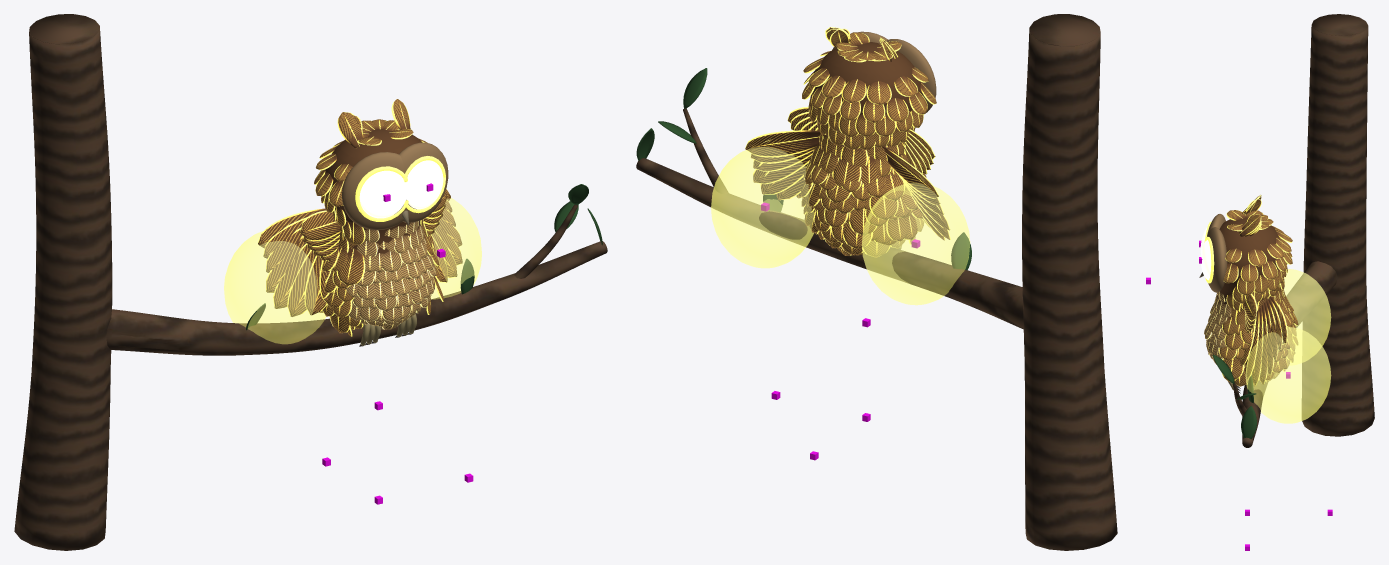
File: 03_gufo_scintilla.glb
3 renders of one model, left to right at view 1: azimuth 30°, elevation 25°; view 2: azimuth 150°, elevation 25°; view 3: azimuth 270°, elevation 25°, orthographic. The views are drawn at different scales.
Parts seen in each view (by area): view 1: Gufo__Corteccia, Gufo__Aura_Ali, Gufo__Piuma_Neon_4, Gufo__Piuma_Chiara_1, Gufo__Occhio_Faro, Gufo__Disco_Facciale, Gufo__Piuma_Neon_1, Gufo__Piumino, Gufo__Piuma_Neon_2, Gufo__Piuma_Neon_3, Gufo__Foglia, Gufo__Anello_Occhio; view 2: Gufo__Corteccia, Gufo__Aura_Ali, Gufo__Piuma_Neon_1, Gufo__Piuma_Neon_4, Gufo__Piuma_Neon_2, Gufo__Piuma_Neon_3, Gufo__Piumino, Gufo__Foglia, Gufo__Disco_Facciale; view 3: Gufo__Corteccia, Gufo__Aura_Ali, Gufo__Piuma_Neon_1, Gufo__Piuma_Neon_4, Gufo__Piumino, Gufo__Piuma_Neon_2, Gufo__Piuma_Neon_3, Gufo__Piuma_Chiara_1, Gufo__Disco_Facciale, Gufo__Foglia, Gufo__Occhio_Faro.
Part boxes in pixels (x1,y1,x2,y2): Gufo__Corteccia: [14, 14, 607, 550]; Gufo__Aura_Ali: [224, 198, 481, 343]; Gufo__Piuma_Neon_4: [258, 99, 462, 336]; Gufo__Piuma_Chiara_1: [346, 221, 436, 323]; Gufo__Occhio_Faro: [359, 160, 443, 218]; Gufo__Disco_Facciale: [342, 142, 448, 230]; Gufo__Piuma_Neon_1: [314, 119, 427, 238]; Gufo__Piumino: [325, 129, 422, 253]; Gufo__Piuma_Neon_2: [322, 219, 438, 285]; Gufo__Piuma_Neon_3: [319, 262, 443, 333]; Gufo__Foglia: [246, 184, 602, 330]; Gufo__Anello_Occhio: [355, 156, 445, 221]; Gufo__Corteccia: [636, 14, 1117, 550]; Gufo__Aura_Ali: [711, 147, 970, 305]; Gufo__Piuma_Neon_1: [802, 32, 936, 155]; Gufo__Piuma_Neon_4: [745, 27, 950, 248]; Gufo__Piuma_Neon_2: [801, 135, 926, 220]; Gufo__Piuma_Neon_3: [801, 189, 923, 257]; Gufo__Piumino: [812, 42, 922, 114]; Gufo__Foglia: [636, 68, 971, 270]; Gufo__Disco_Facciale: [832, 31, 936, 114]; Gufo__Corteccia: [1232, 14, 1374, 447]; Gufo__Aura_Ali: [1245, 269, 1331, 423]; Gufo__Piuma_Neon_1: [1223, 210, 1292, 309]; Gufo__Piuma_Neon_4: [1239, 195, 1287, 385]; Gufo__Piumino: [1217, 217, 1279, 304]; Gufo__Piuma_Neon_2: [1222, 287, 1298, 351]; Gufo__Piuma_Neon_3: [1219, 336, 1297, 386]; Gufo__Piuma_Chiara_1: [1204, 291, 1231, 364]; Gufo__Disco_Facciale: [1207, 214, 1227, 292]; Gufo__Foglia: [1212, 354, 1256, 438]; Gufo__Occhio_Faro: [1200, 227, 1211, 280].
Size of the model in its own units: 8.79 by 8.03 by 4.16.
13 materials, 3 textured.
